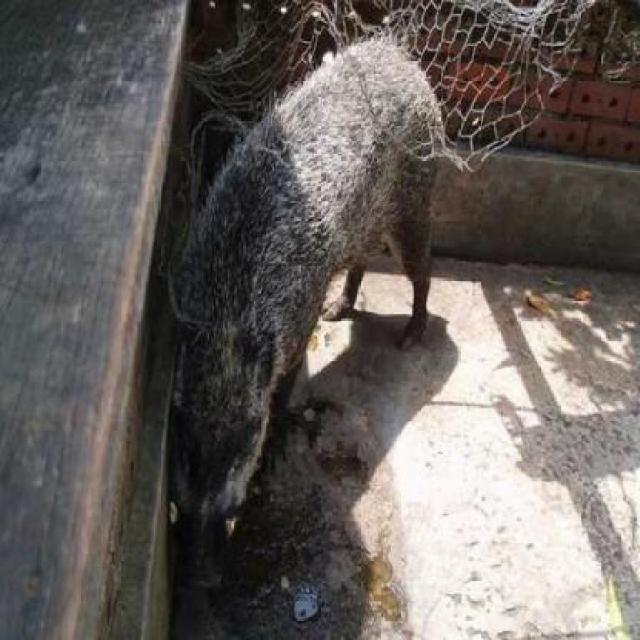pig: (132, 21, 501, 528)
